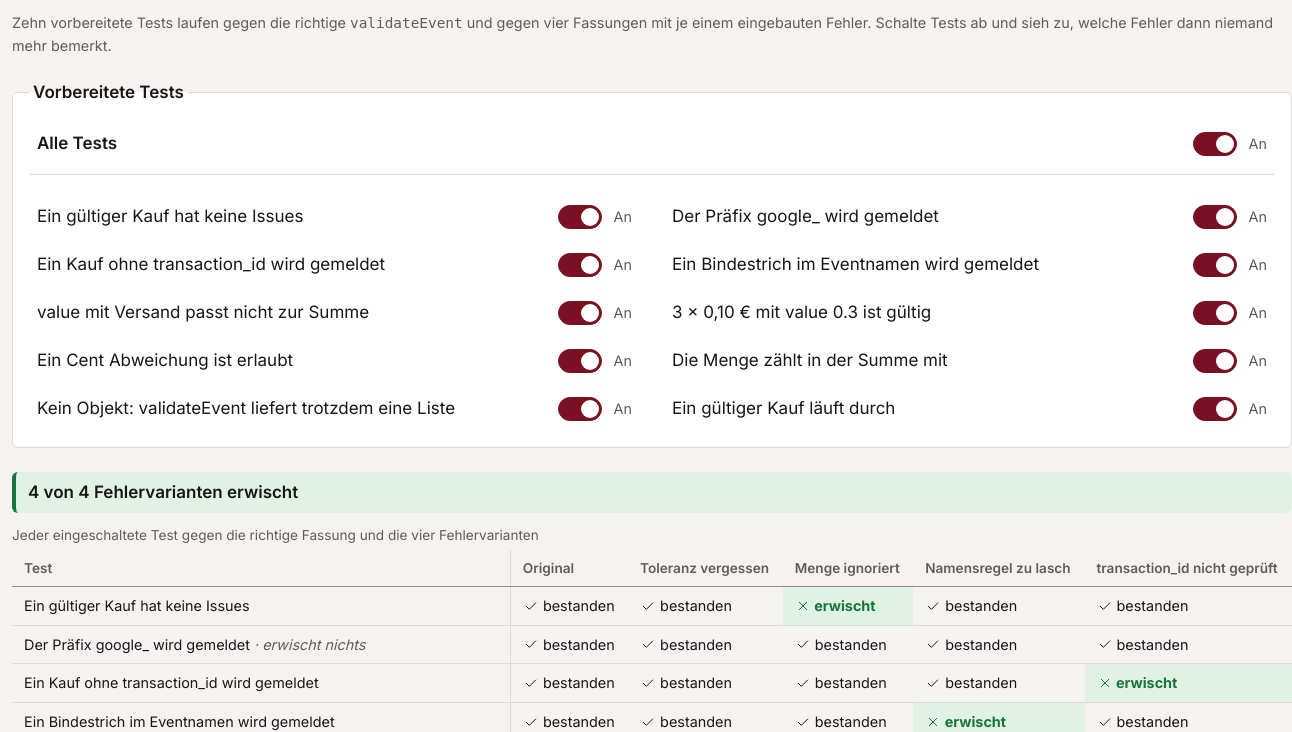
Test: Demo › zeigt zehn Schalter und schaltet Zeilen und Fazit um
The image size is (1292, 732).
Expected: the text "4 von 4 Fehlervarianten erwischt" is shown, 12,472 -> 1291,513
// Den einzigen Test für transaction_id abschalten.
Click the switch labelled "Ein Kauf ohne transaction_id wird gemeldet An". click: (334,265)
box: 29,243 -> 640,287
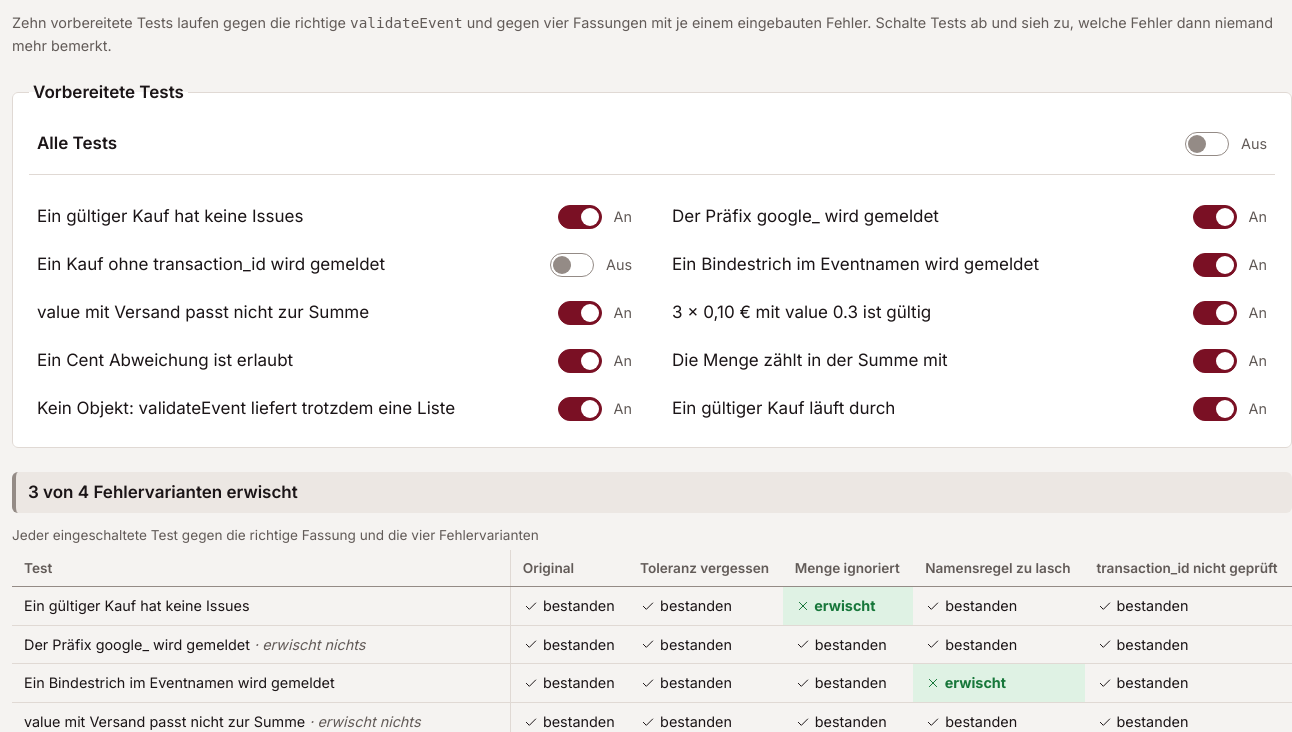
Result: the text "3 von 4 Fehlervarianten erwischt" is shown at 12,472 -> 1291,513
